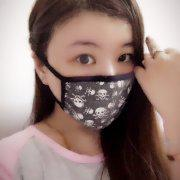OK: (48, 38, 139, 129)
